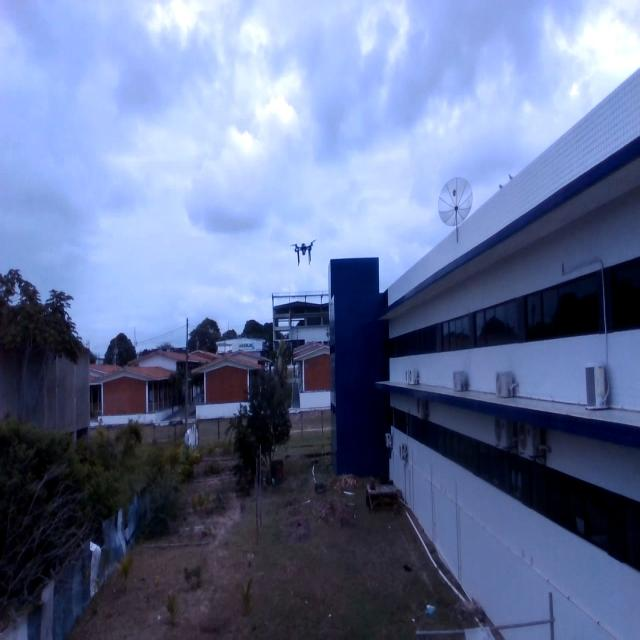-uav-: (283, 228, 325, 276)
